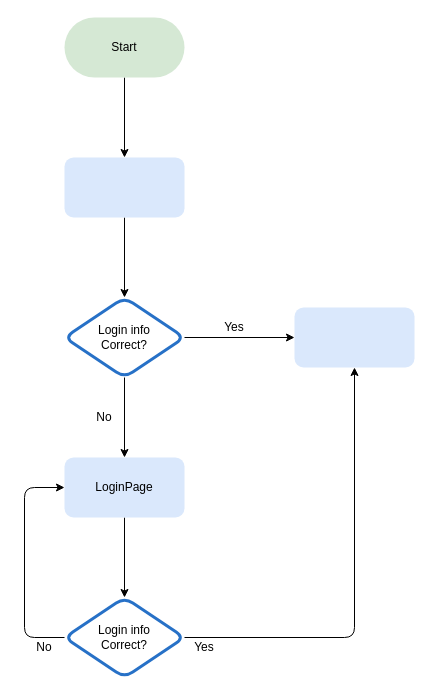
Image size: 432x696. Some labels were removed from this diagram. Here are the shapes that lost their labels. From the top down, the centre of each, then its label:
At (x=124, y=187): "SplashPage".
At (x=354, y=337): "HomePage".
